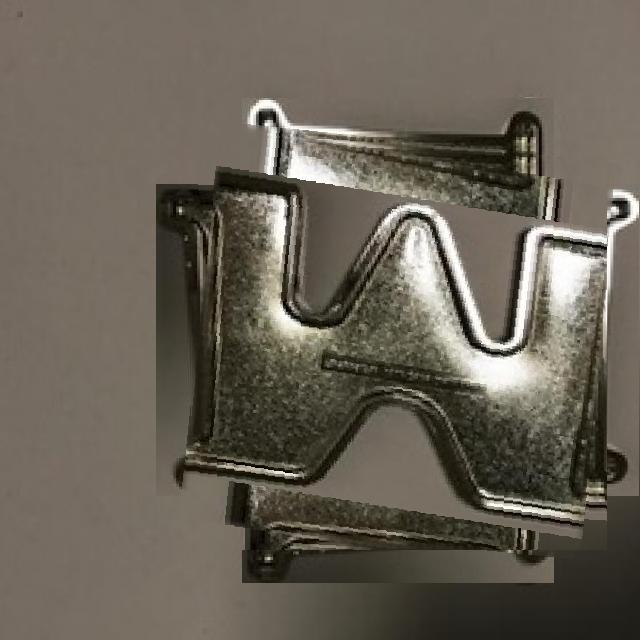recyclable: (189, 131, 607, 550)
